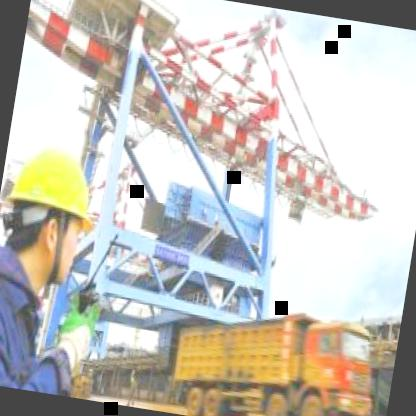helmet: (0, 123, 111, 291)
